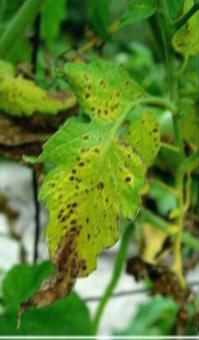Tomato Septoria leaf spot: (16, 65, 157, 312)
